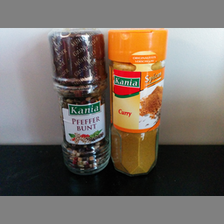spices: (108, 29, 168, 175), (49, 31, 109, 174)
